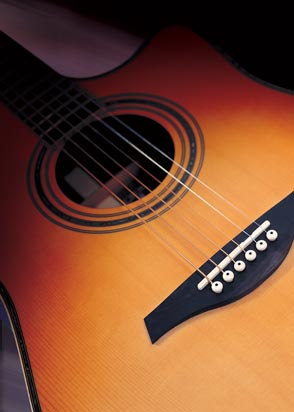guitar: (1, 29, 290, 412)
